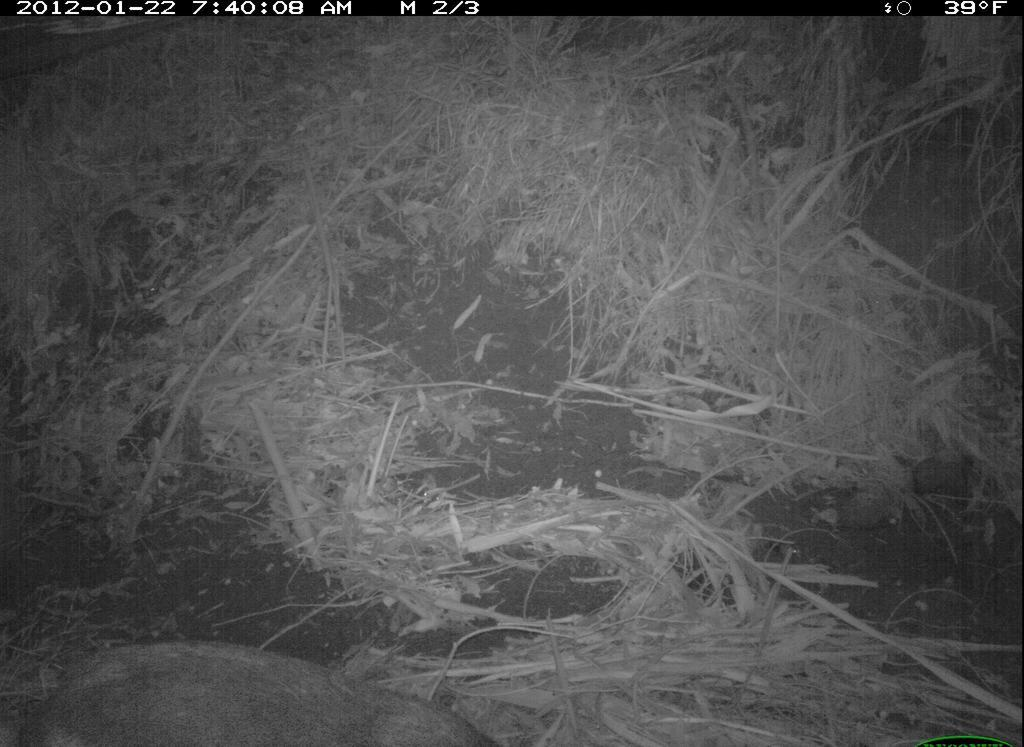dog: (21, 635, 523, 747)
